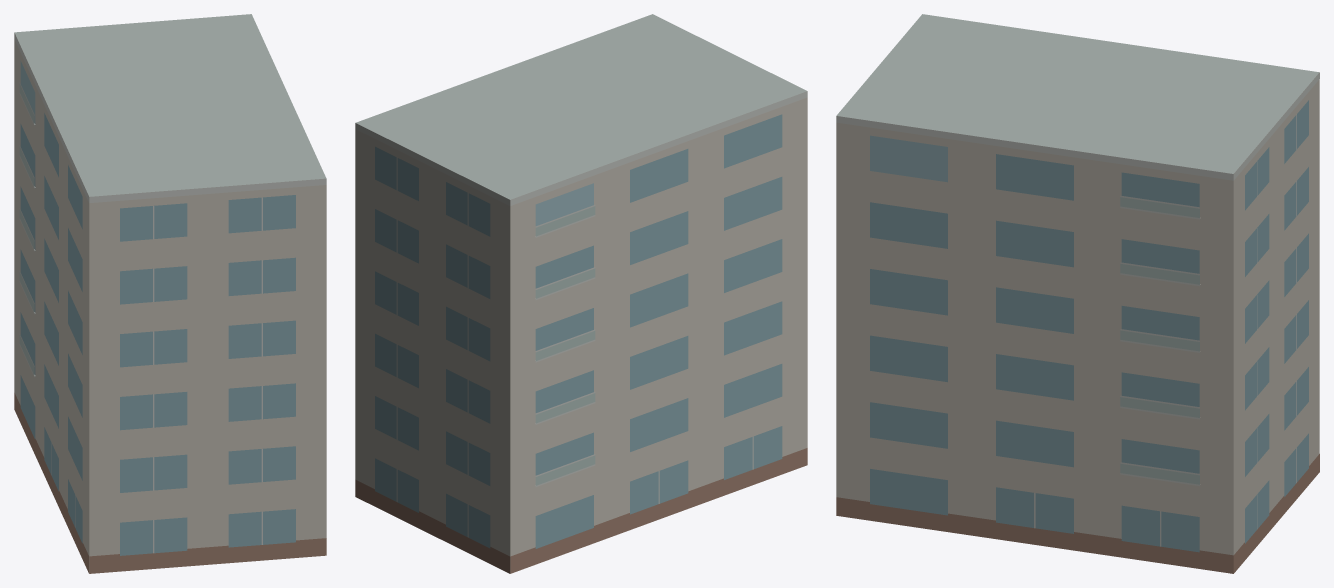
File: survey-upis-32894360.glb
3 views of the same model, side by side, from view 1: azimuth 30°, elevation 25°; view 2: azimuth 150°, elevation 25°; view 3: azimuth 270°, elevation 25° (orthographic). The views are drawn at different scales.
Parts seen in each view (by area): view 1: survey-upis-32894360.tmp; view 2: survey-upis-32894360.tmp; view 3: survey-upis-32894360.tmp.
Boxes of the visible parts, left/top/right/bottom form: survey-upis-32894360.tmp: left=14, top=14, right=326, bottom=573; survey-upis-32894360.tmp: left=355, top=14, right=807, bottom=573; survey-upis-32894360.tmp: left=836, top=14, right=1319, bottom=573.
Size of the model in its own units: 12.5 by 14.55 by 15.95.
